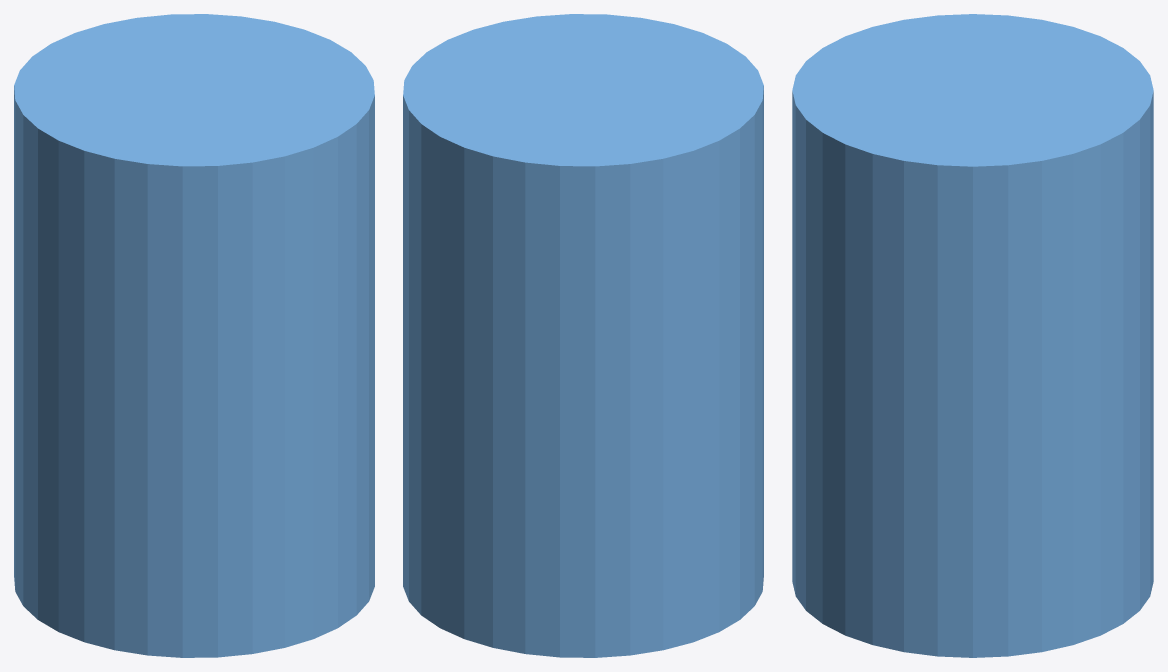
3 renders of one model, left to right at view 1: azimuth 30°, elevation 25°; view 2: azimuth 150°, elevation 25°; view 3: azimuth 270°, elevation 25°, orthographic.
Parts seen in each view (by area): view 1: Cylinder; view 2: Cylinder; view 3: Cylinder.
Boxes of the visible parts, <box> form: Cylinder: <box>14,14,374,657</box>; Cylinder: <box>403,14,763,657</box>; Cylinder: <box>792,14,1153,657</box>.
Bounding box in the file's own units: 2 × 3 × 2.
